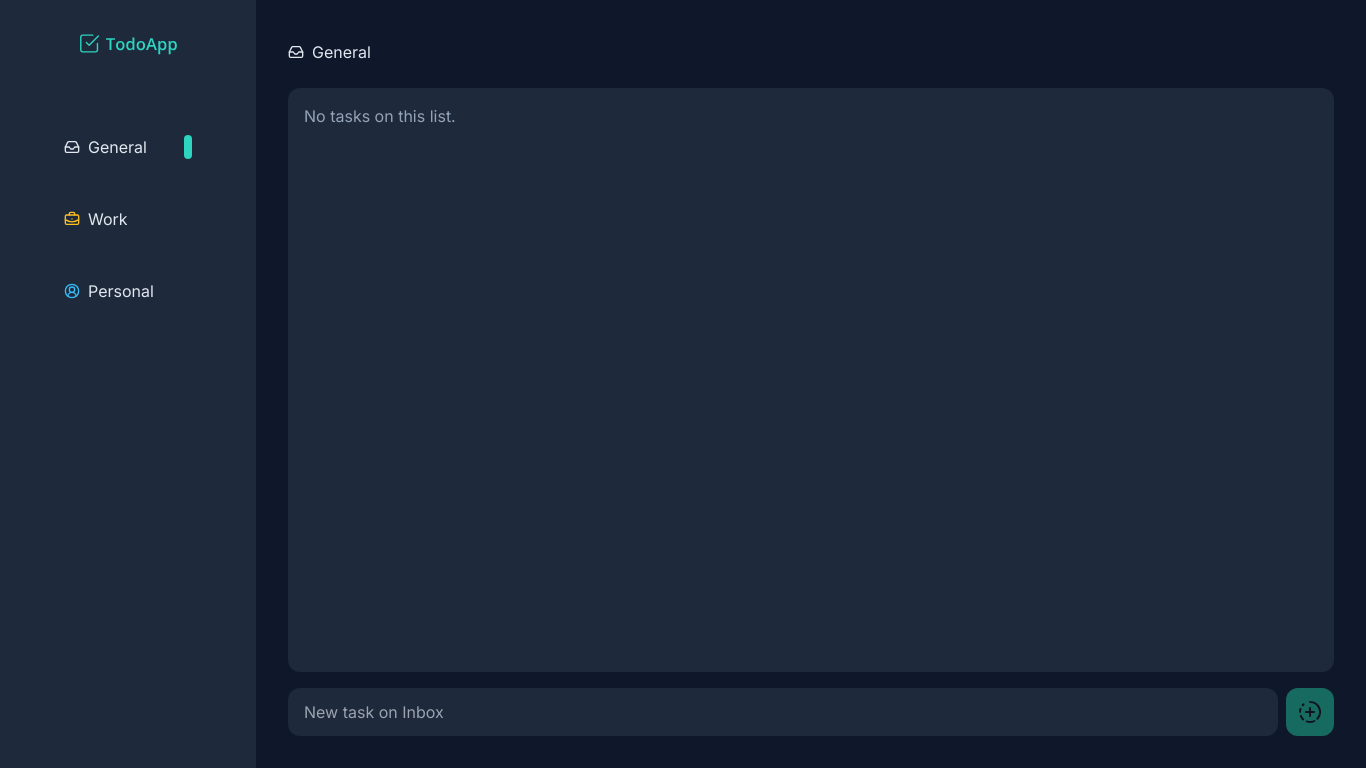
it: Tasks › should create a task
This screenshot has width=1366, height=768.
Type "Automatically created task 001" into the field named "task-title" at (783, 712), box [288, 688, 1278, 736]
Then press Enter
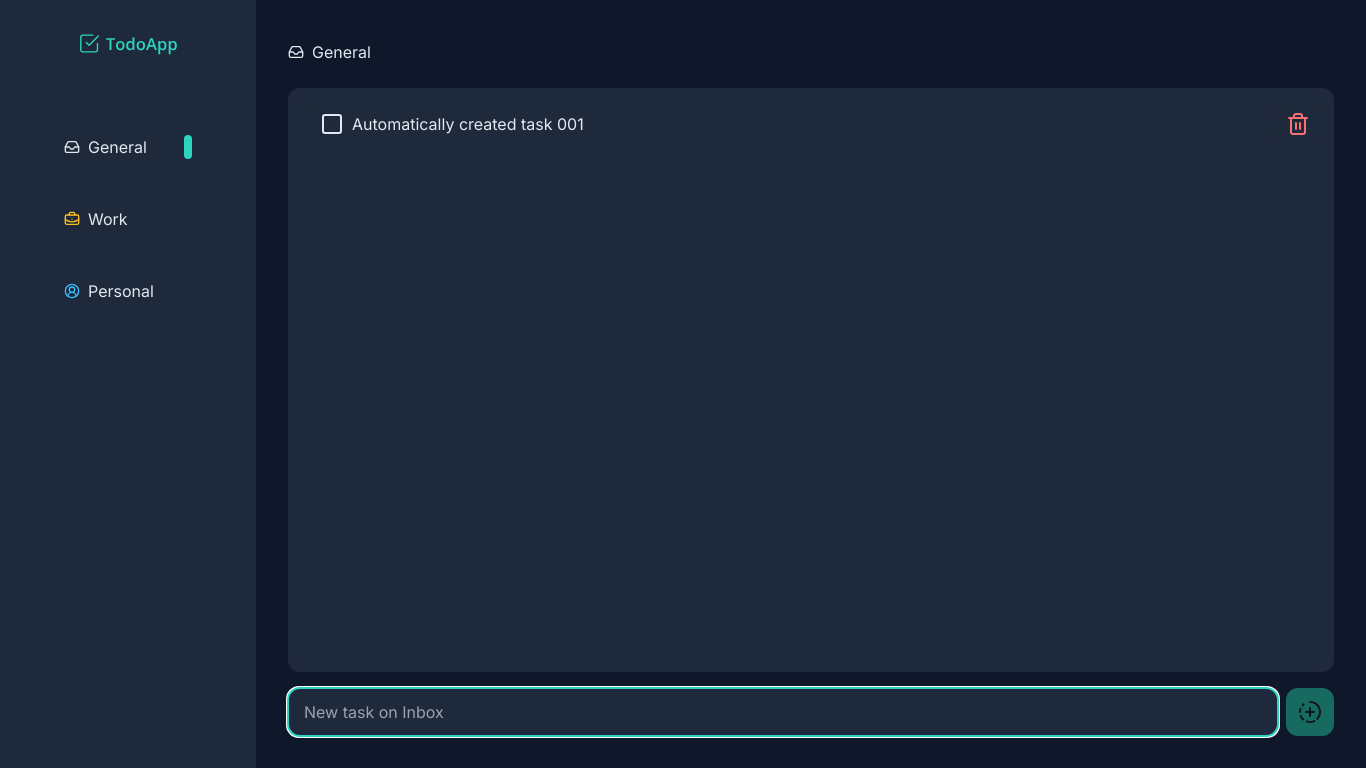
Open "/"
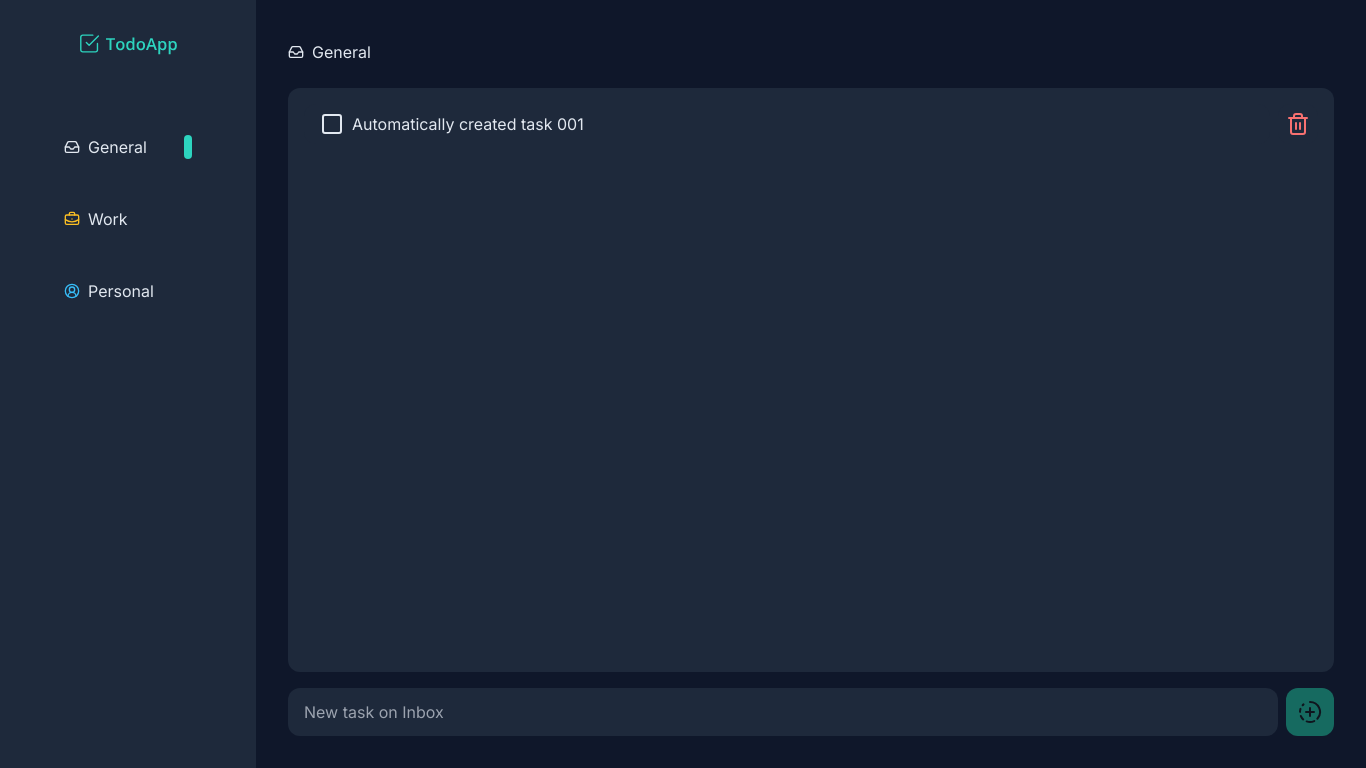
Type "test task" into the field named "task-title" at (783, 712), box [288, 688, 1278, 736]
Then press Enter
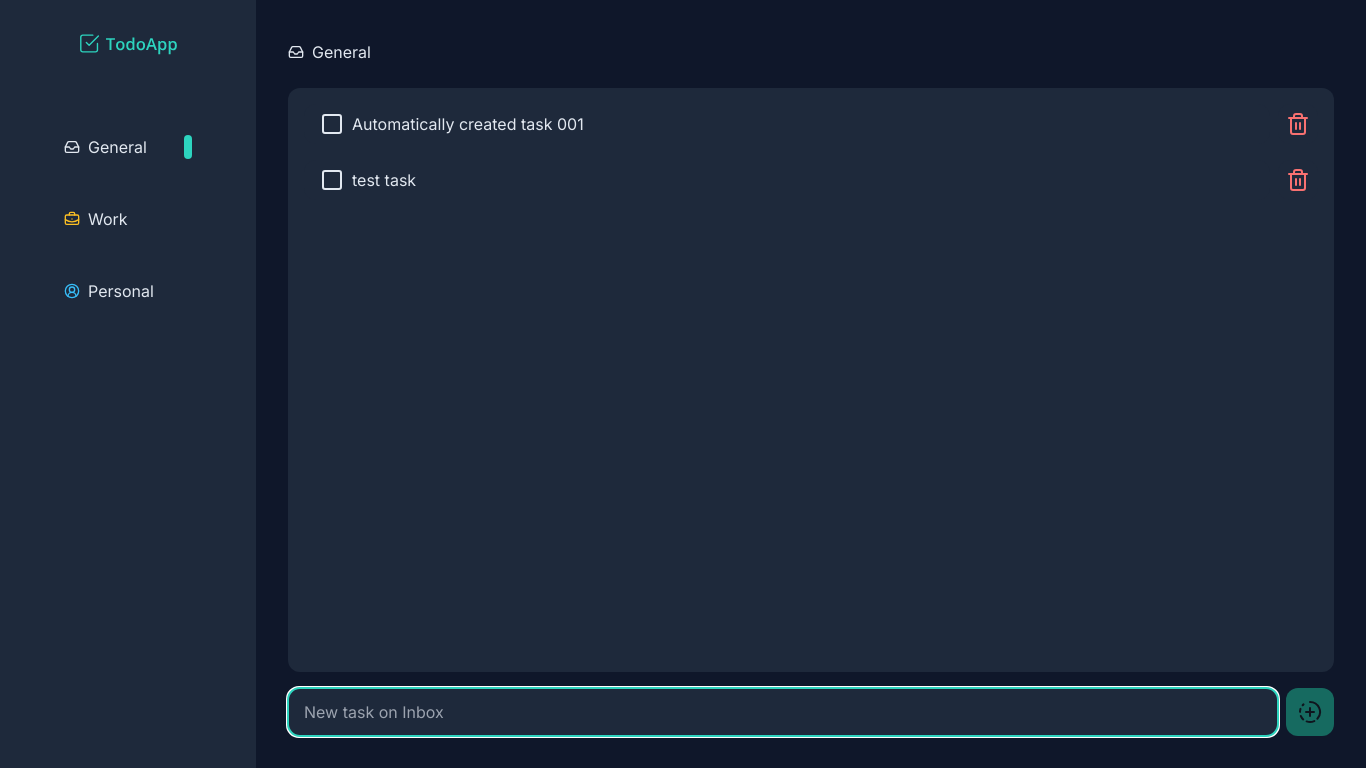
Result: the button "test task" is shown at [304, 160, 1270, 200]
